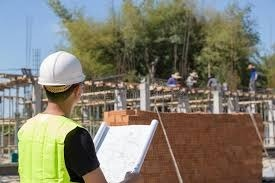helmet: (36, 49, 88, 88)
person with full safety: (16, 50, 106, 182)
safety vest: (18, 115, 85, 178)
